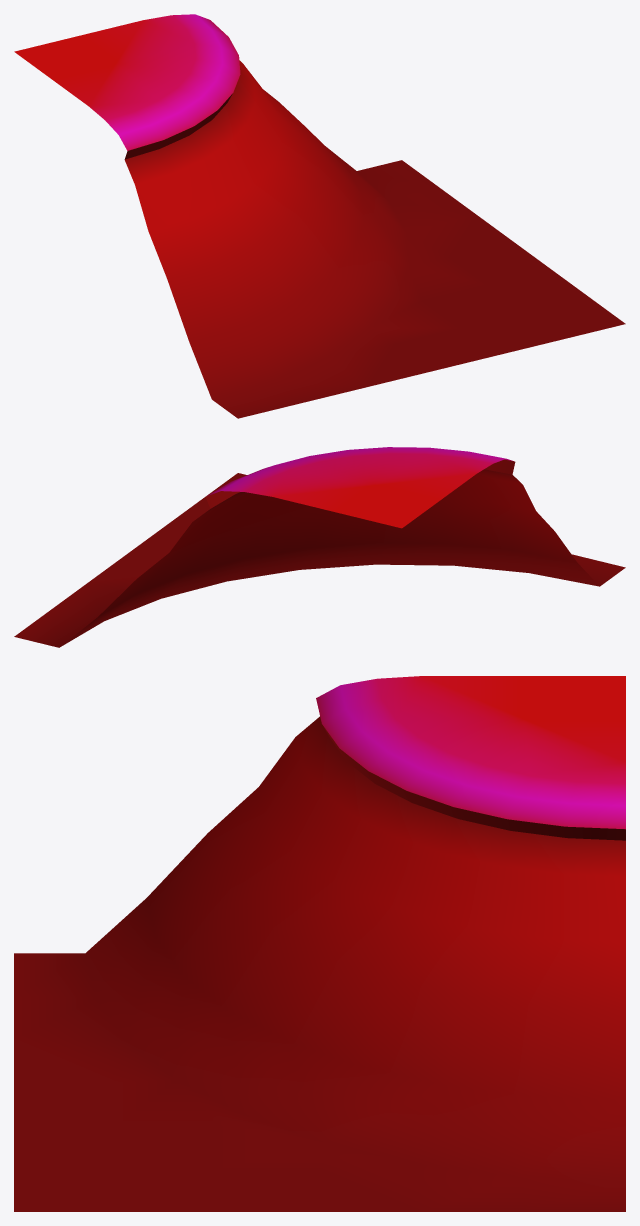
Rendered from SM_VKT_Shore_Outer_A.fbx.
3 views of the same model, one above another, from view 1: azimuth 30°, elevation 25°; view 2: azimuth 150°, elevation 25°; view 3: azimuth 270°, elevation 25° (orthographic). The views are drawn at different scales.
Visible parts, largest first — view 1: SM_VKT_Shore_Outer_A.001; view 2: SM_VKT_Shore_Outer_A.001; view 3: SM_VKT_Shore_Outer_A.001.
Boxes of the visible parts, x1,y1,x2,y2 form: SM_VKT_Shore_Outer_A.001: (14, 14, 625, 418); SM_VKT_Shore_Outer_A.001: (14, 447, 625, 647); SM_VKT_Shore_Outer_A.001: (14, 676, 625, 1211).
Size of the model in its own units: 3 by 1.5 by 3.
